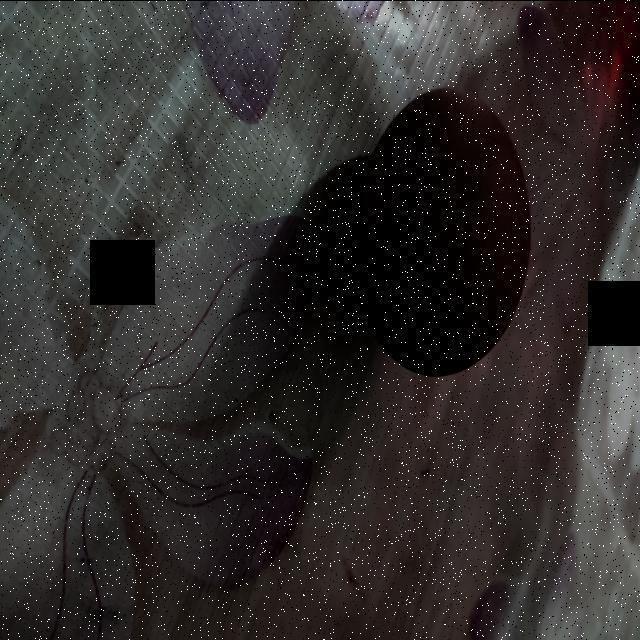egg: (344, 82, 532, 382)
